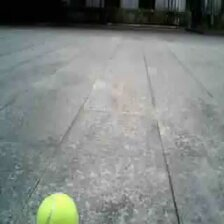tennis: (39, 192, 78, 224)
